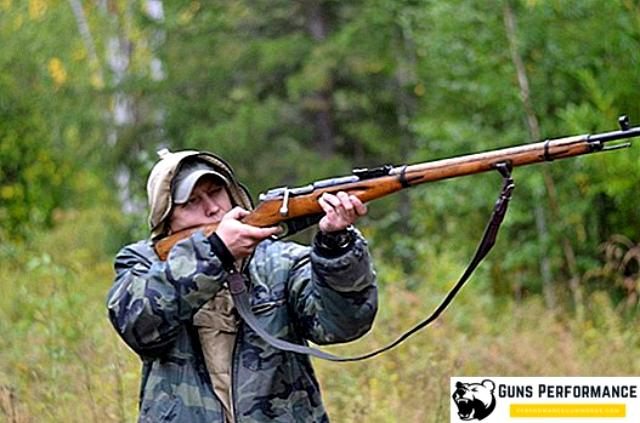rifle: (155, 116, 640, 266)
